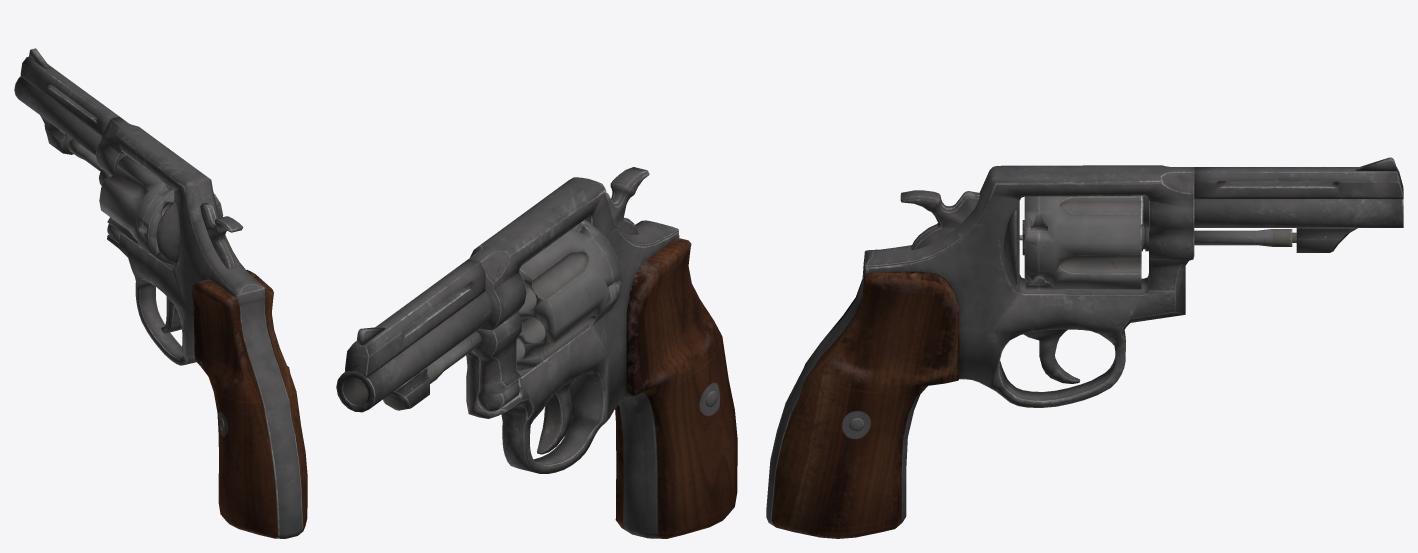
File: revolver_357.glb
The picture shows the model from 3 angles, left to right: view 1: azimuth 30°, elevation 25°; view 2: azimuth 150°, elevation 25°; view 3: azimuth 270°, elevation 25°; orthographic projection. The views are drawn at different scales.
Visible parts, largest first — view 1: item; view 2: item; view 3: item.
Boxes of the visible parts, <box> form: item: <box>14,48,307,538</box>; item: <box>336,167,737,538</box>; item: <box>766,157,1403,538</box>.
Bounding box in the file's own units: 0.0477 × 0.2544 × 0.29.
1 material, 1 textured.
